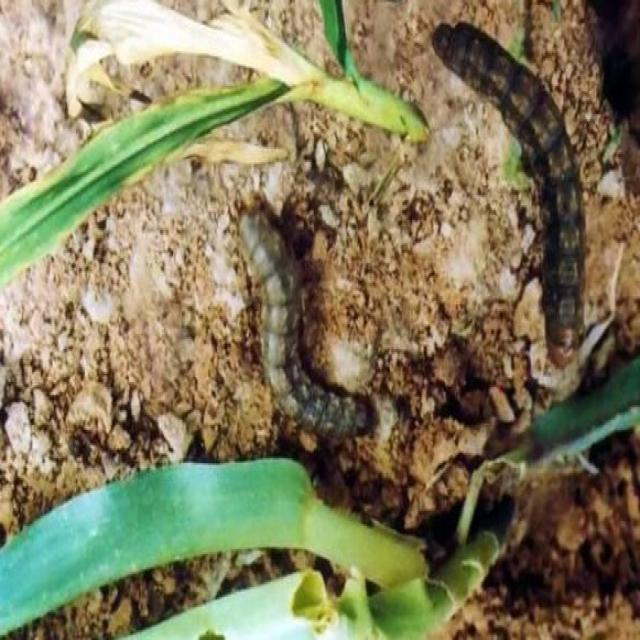black cutworm: (415, 24, 599, 376), (229, 187, 383, 457)
